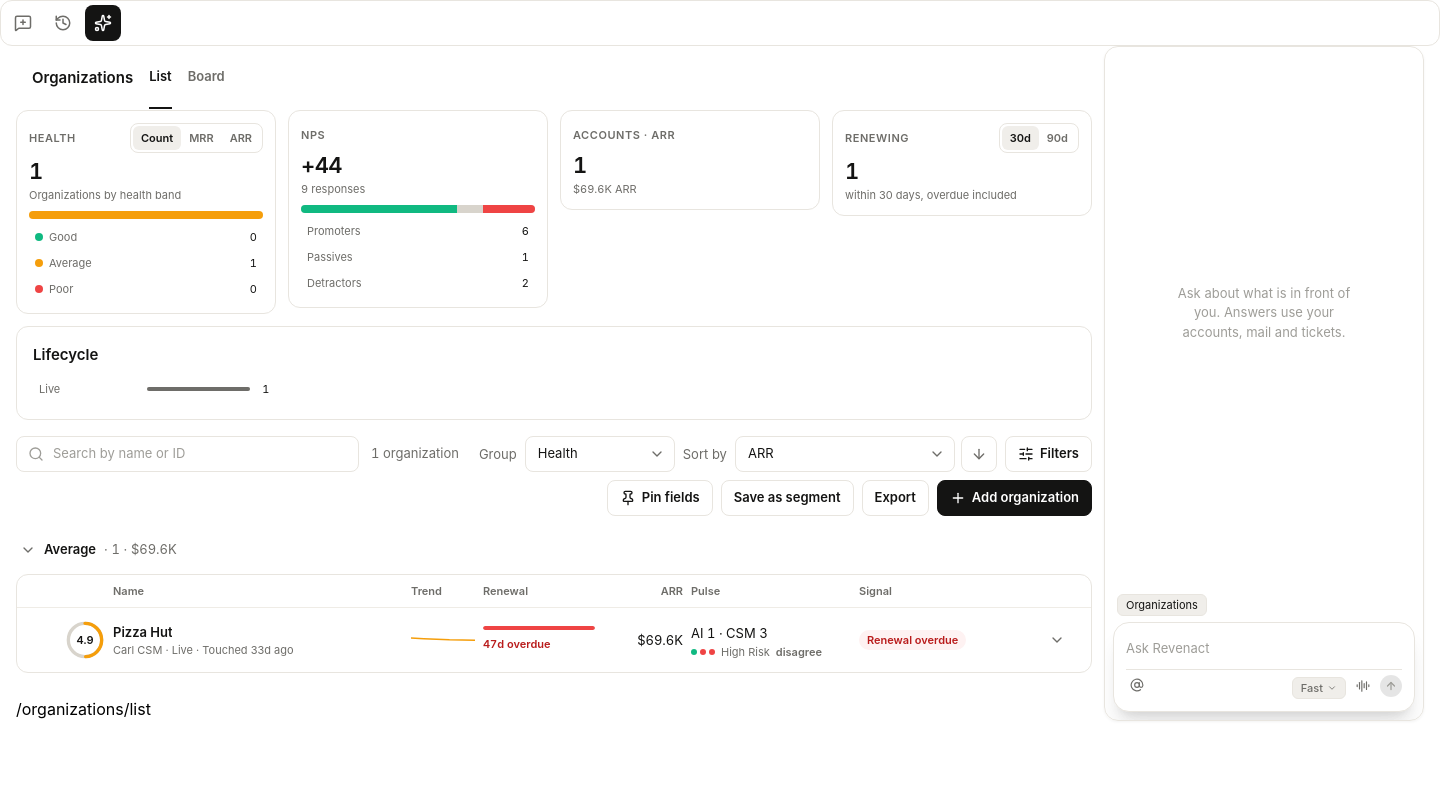
History on an organisation's page › tags a conversation with the server's label
This screenshot has width=1440, height=810.
expect the link "Pizza Hut" is shown: met, box [113, 622, 172, 642]
Click the button named "History": (63, 23) [45, 5, 81, 41]
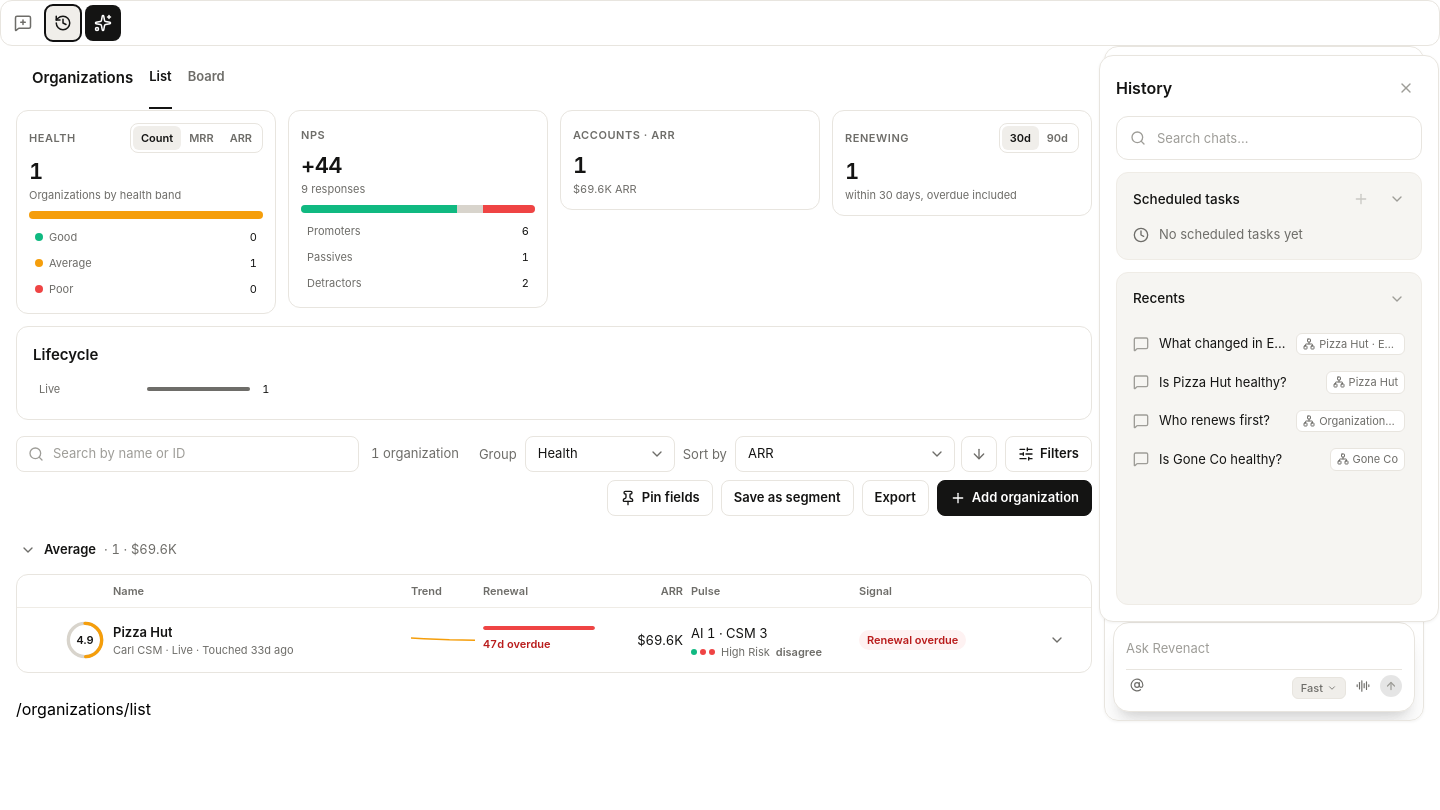
expect the text "Pizza Hut · EMEA" is shown: met, box [1319, 336, 1398, 352]
expect the text "Pizza Hut" below "Recents" is shown: met, box [1349, 375, 1398, 389]
